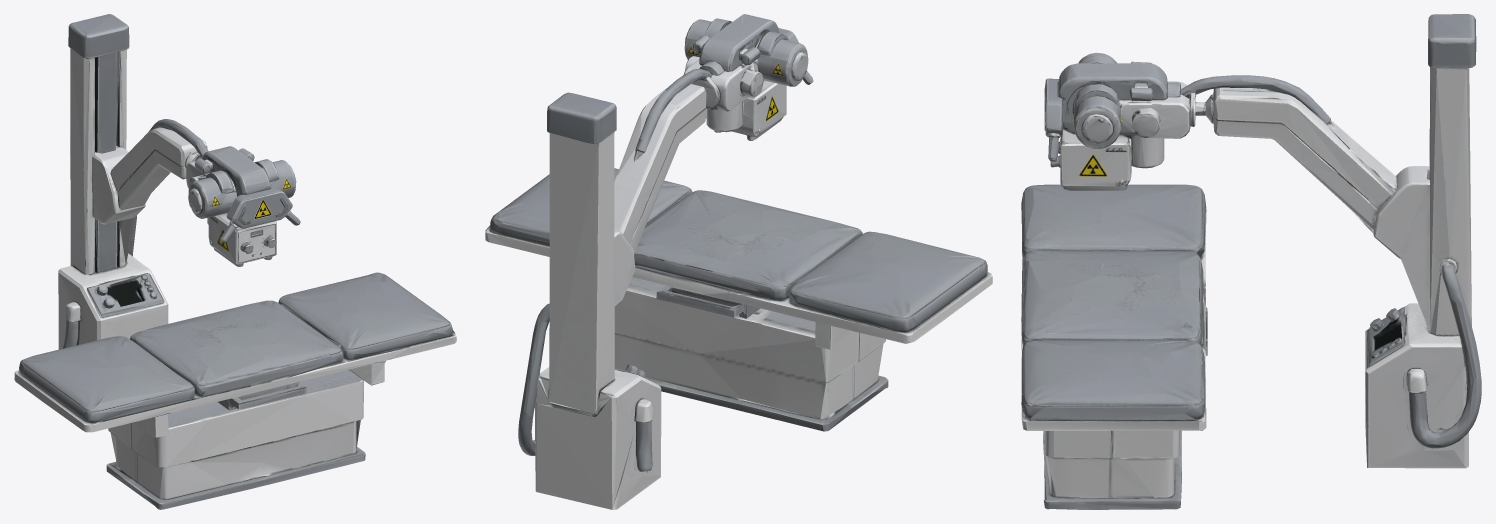
File: xray.glb
3 renders of one model, left to right at view 1: azimuth 30°, elevation 25°; view 2: azimuth 150°, elevation 25°; view 3: azimuth 270°, elevation 25°, orthographic. The views are drawn at different scales.
Bounding box in the file's own units: 1.9 × 1.67 × 1.64.
1 material, 1 textured.
